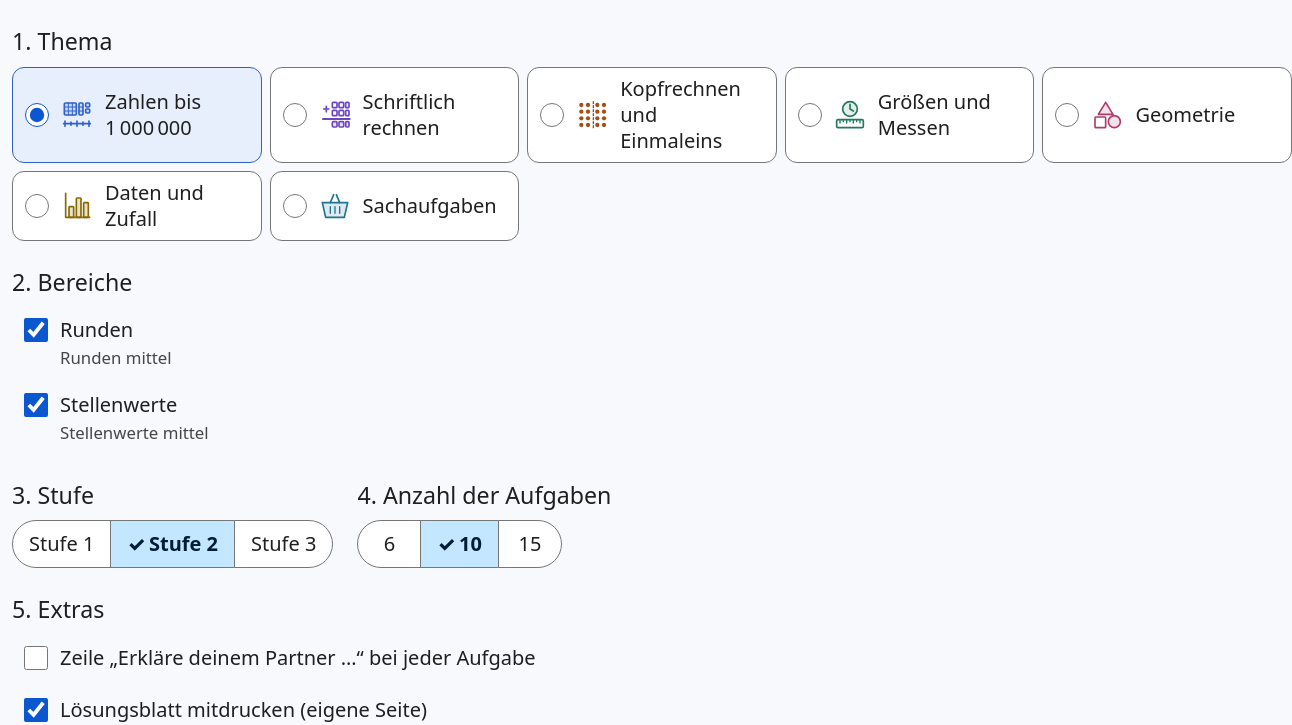
Scenario: WorksheetPage › validates the inputs
The width and height of the screenshot is (1292, 725).
Click the checkbox labelled "Runden Runden mittel": (36, 330) [24,318,48,342]
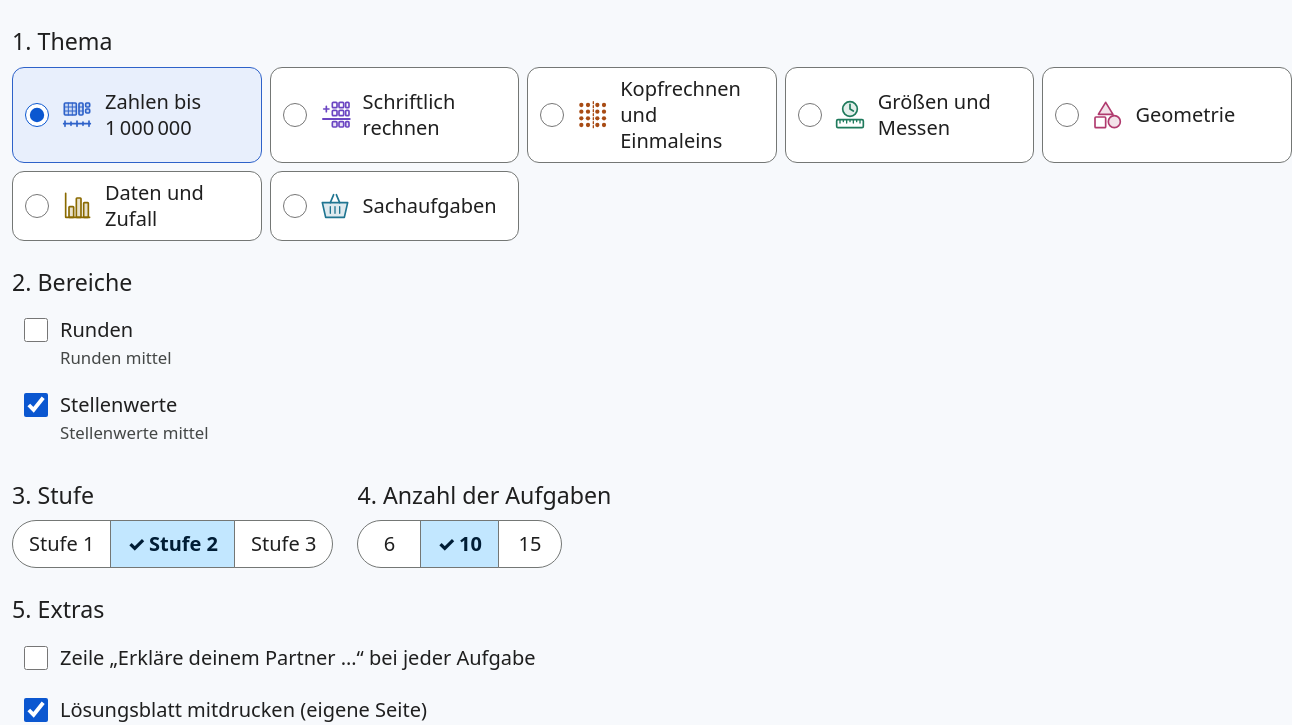
Click the checkbox labelled "Stellenwerte Stellenwerte mittel": (36, 405) [24,393,48,417]
(page scrolled)
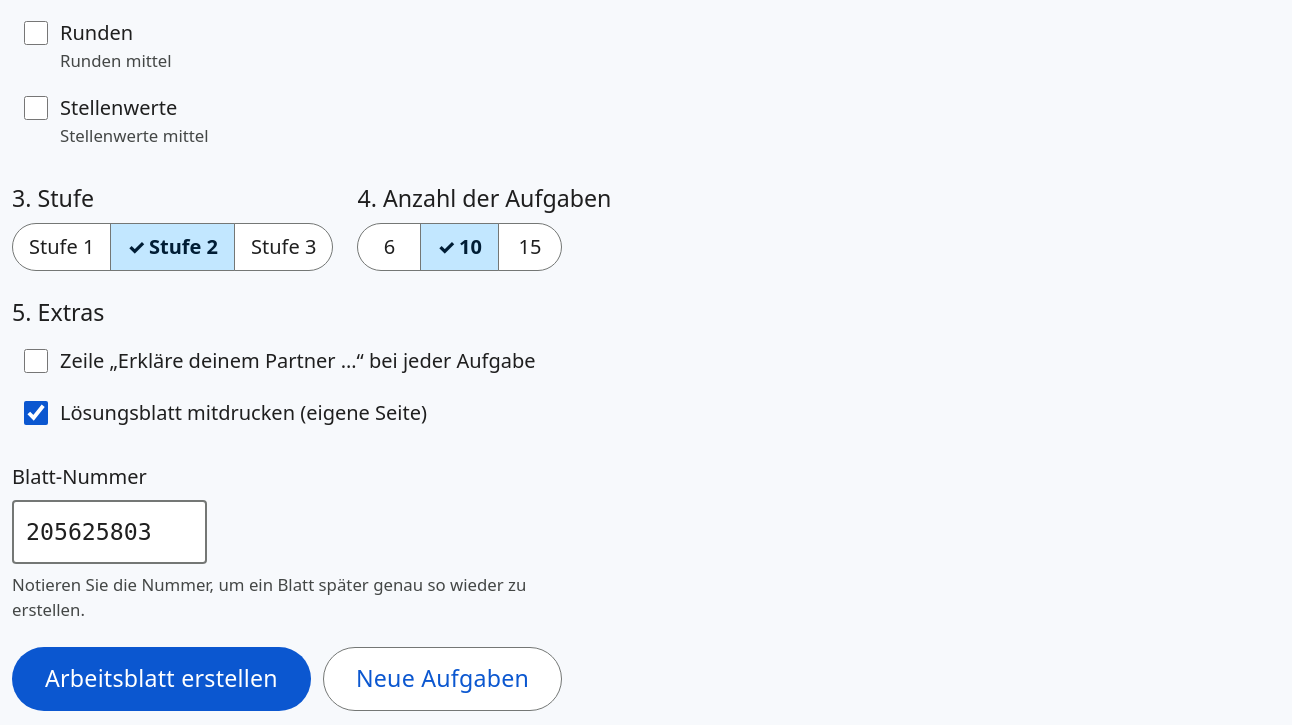
Replace the text in the field labelled "Blatt-Nummer" with "5": (110, 532) [12,500,207,564]
Click the button "Arbeitsblatt erstellen": (161, 679) [12,647,311,711]
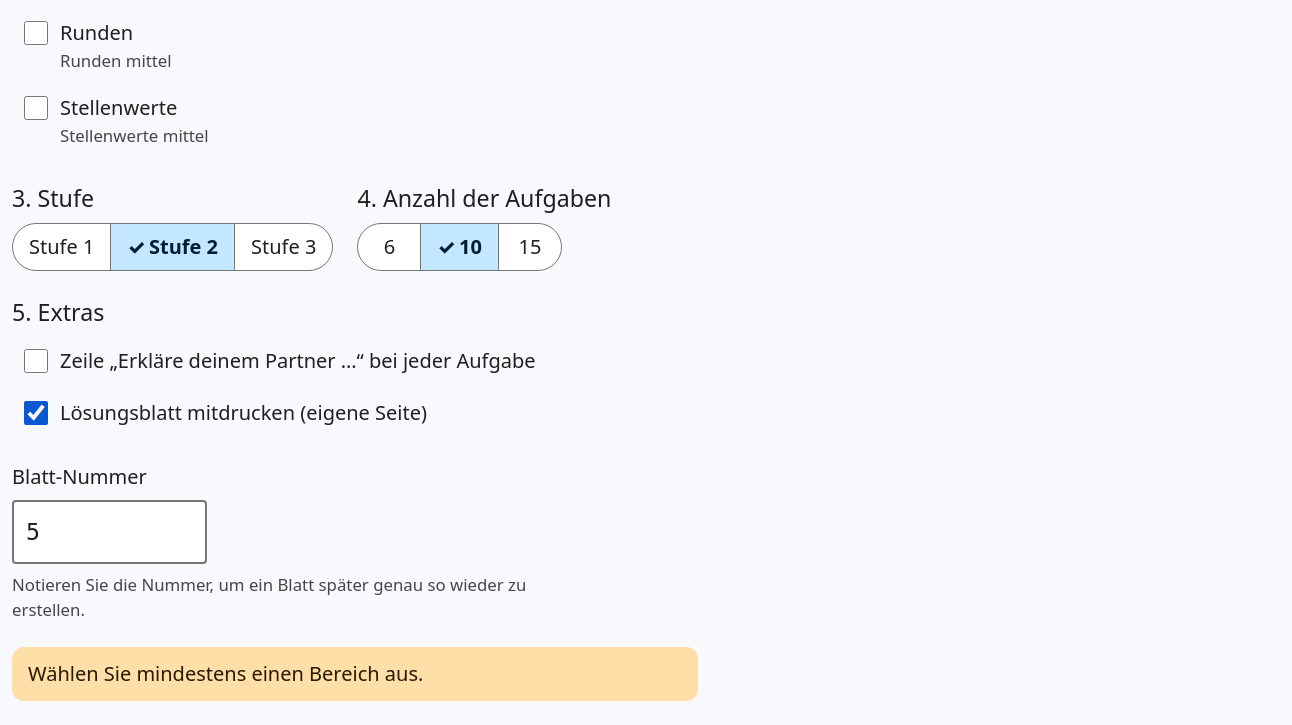
expect the text "Wählen Sie mindestens einen Bereich aus." is shown: met, box [12,647,698,701]
Click the checkbox labelled "Runden Runden mittel": (36, 33) [24,21,48,45]
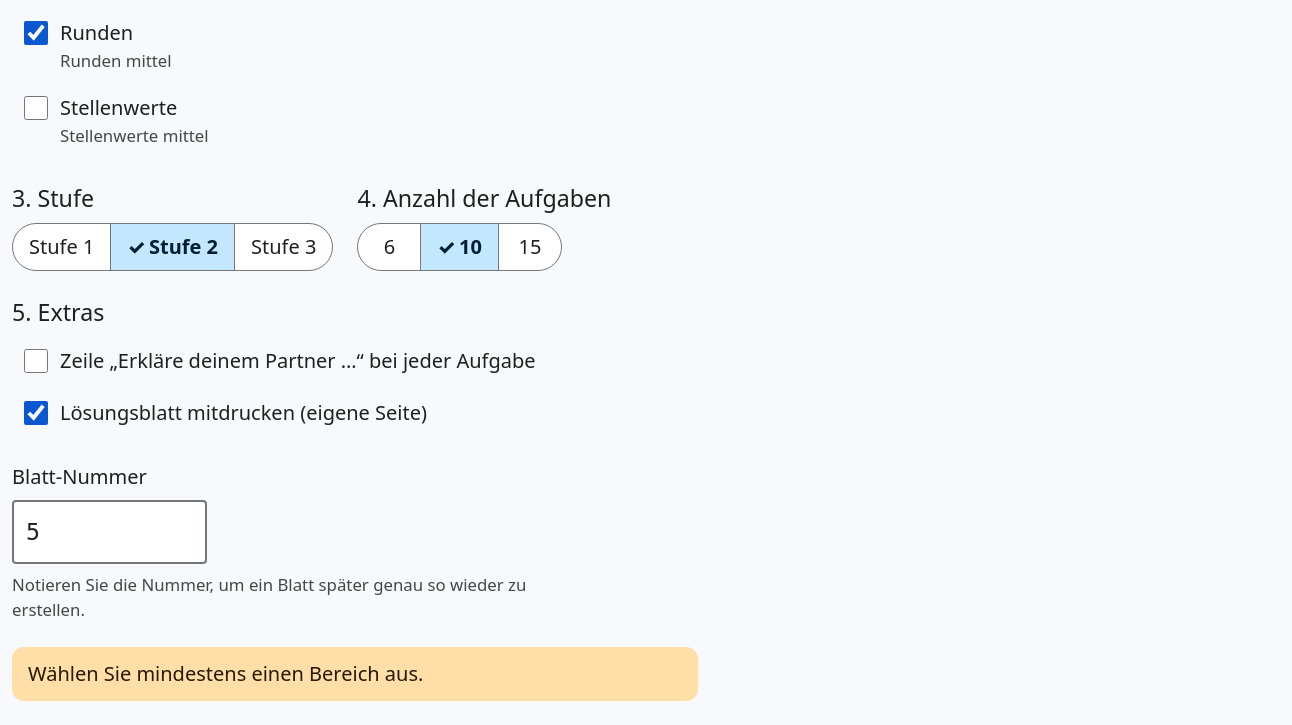
Replace the text in the field labelled "Blatt-Nummer" with "abc": (110, 532) [12,500,207,564]
(page scrolled)
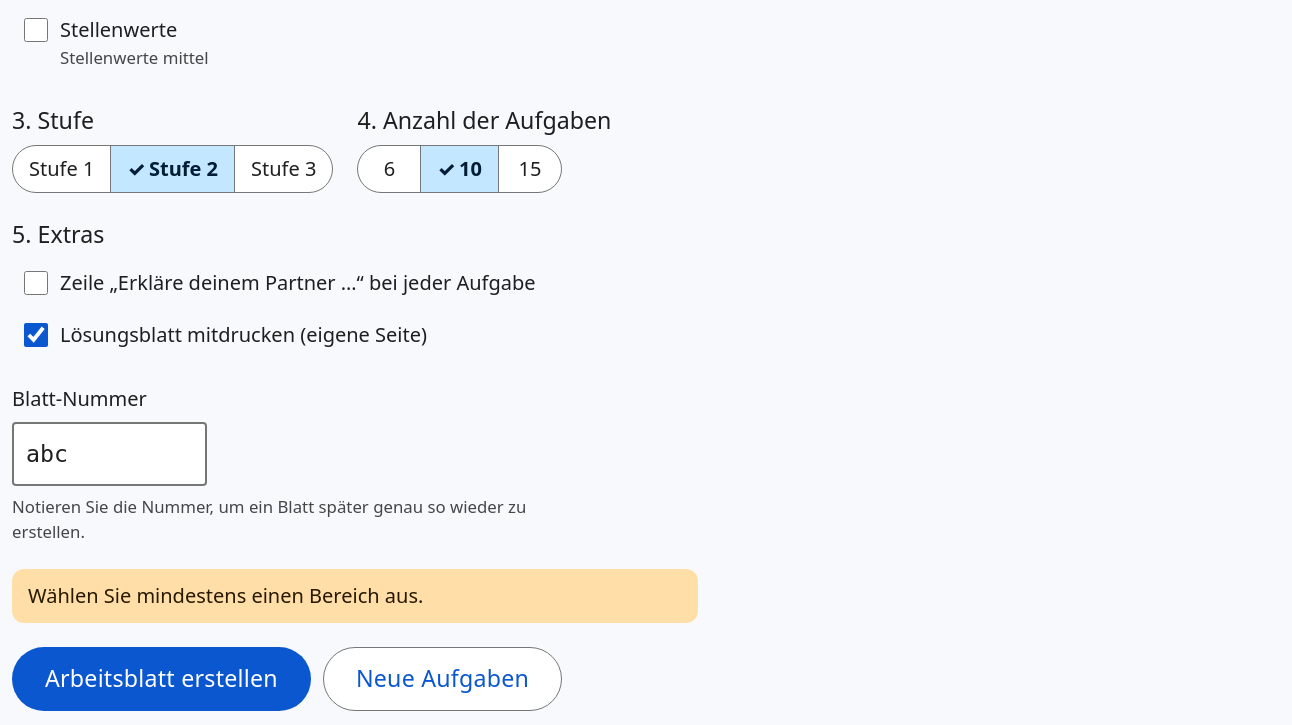
Click the button "Arbeitsblatt erstellen": (161, 679) [12,647,311,711]
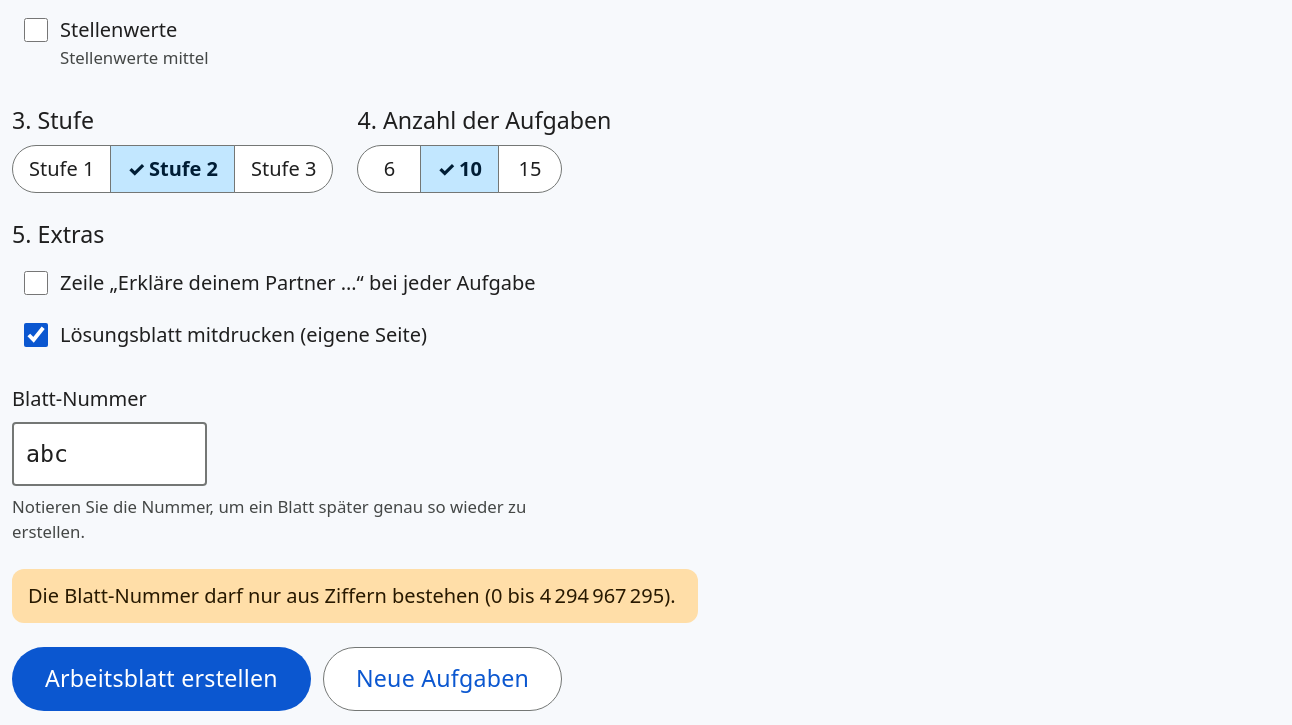
expect the text "Die Blatt-Nummer darf nur aus Ziffern bestehen (0 bis 4 294 967 295)." is shown: met, box [12,569,698,623]
